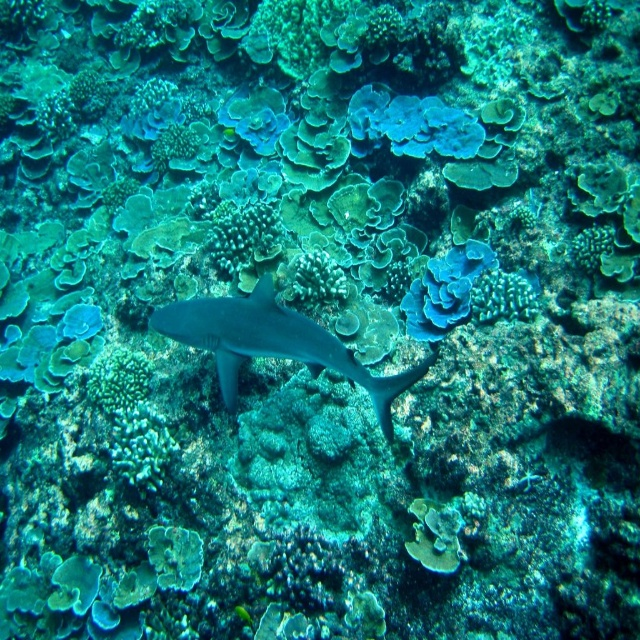Shark: (133, 266, 434, 438)
